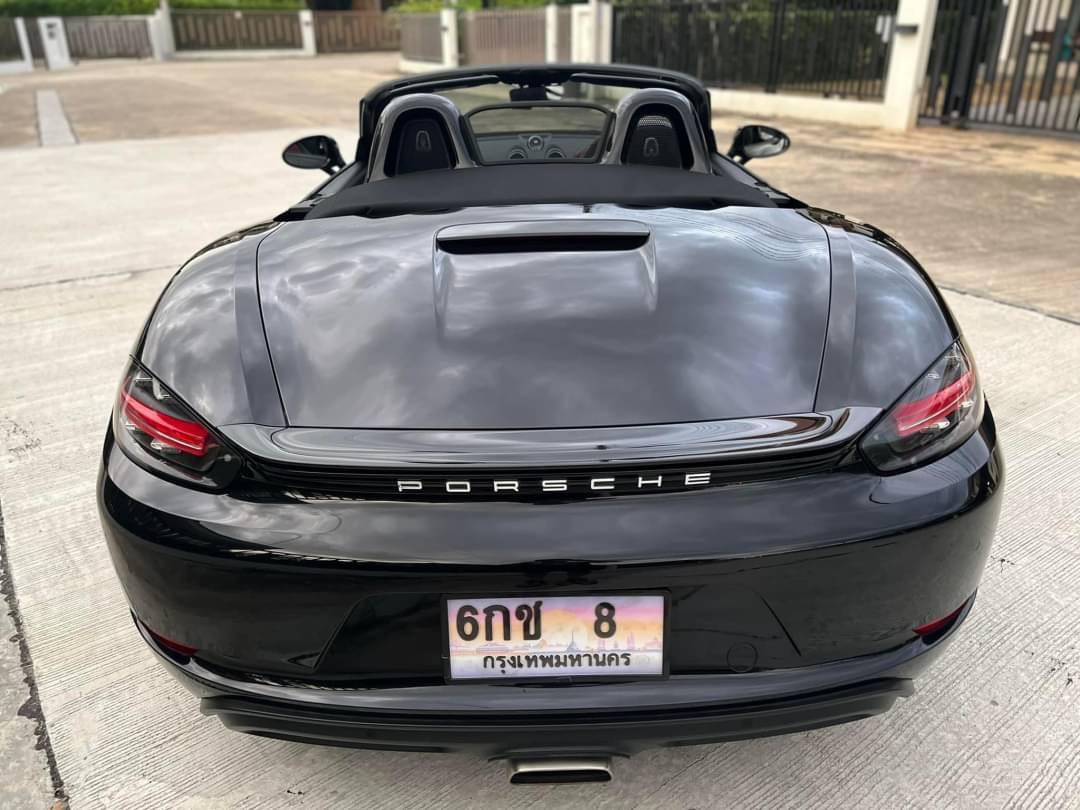license-plate: (427, 580, 683, 693)
